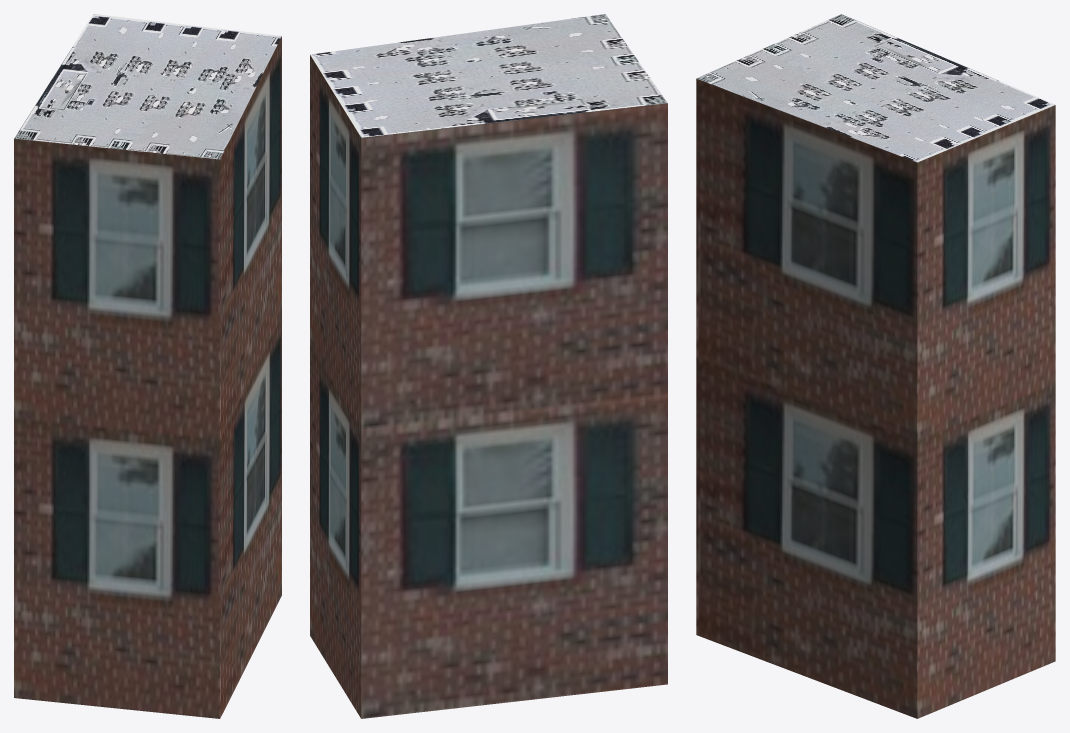
The model's file is ResTex__1262.fbx.
3 renders of one model, left to right at view 1: azimuth 30°, elevation 25°; view 2: azimuth 150°, elevation 25°; view 3: azimuth 270°, elevation 25°, orthographic. The views are drawn at different scales.
Visible parts, largest first — view 1: CityEngineMaterial_14_m, CityEngineMaterial_m; view 2: CityEngineMaterial_14_m, CityEngineMaterial_m; view 3: CityEngineMaterial_14_m, CityEngineMaterial_m.
Boxes of the visible parts, <box> form: CityEngineMaterial_14_m: <box>14,36,281,718</box>; CityEngineMaterial_m: <box>14,14,281,159</box>; CityEngineMaterial_14_m: <box>310,55,667,718</box>; CityEngineMaterial_m: <box>310,14,667,137</box>; CityEngineMaterial_14_m: <box>696,78,1055,718</box>; CityEngineMaterial_m: <box>696,14,1055,162</box>.
Bounding box in the file's own units: 3.44 × 6 × 3.51.
Materials: 2 (2 with a texture image).
